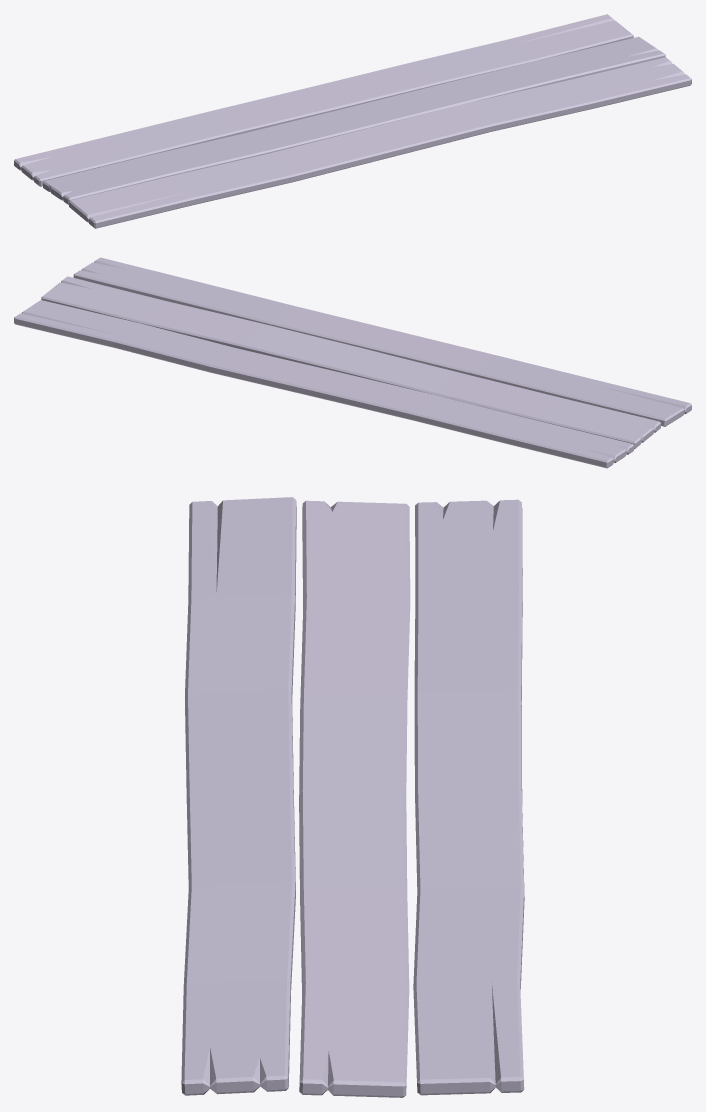
Rendered from fishingHut_pier.gltf.
3 views of the same model, one above another, from view 1: azimuth 30°, elevation 25°; view 2: azimuth 150°, elevation 25°; view 3: azimuth 270°, elevation 25° (orthographic). The views are drawn at different scales.
Visible parts, largest first — view 1: planking.pier.001; view 2: planking.pier.001; view 3: planking.pier.001.
Boxes of the visible parts, <box> form: planking.pier.001: <box>14,14,691,228</box>; planking.pier.001: <box>14,257,691,468</box>; planking.pier.001: <box>181,497,524,1097</box>.
Size of the model in its own units: 4.02 by 0.0724 by 0.999.
